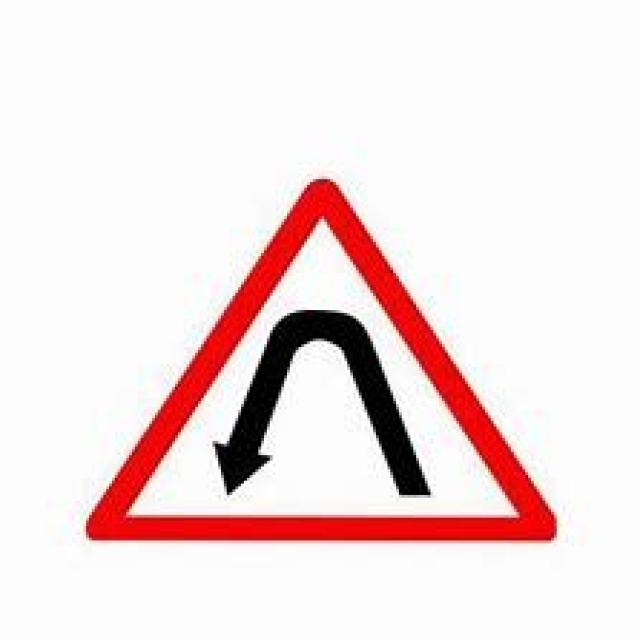LEFT_HAIR_PIN_BEND: (85, 180, 565, 538)
